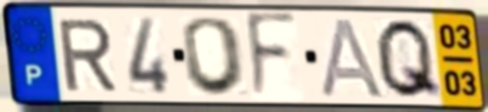4: (124, 14, 172, 97)
A: (318, 16, 387, 101)
F: (243, 10, 300, 104)
O: (180, 14, 249, 98)
Q: (372, 16, 445, 101)
R: (54, 16, 120, 94)
